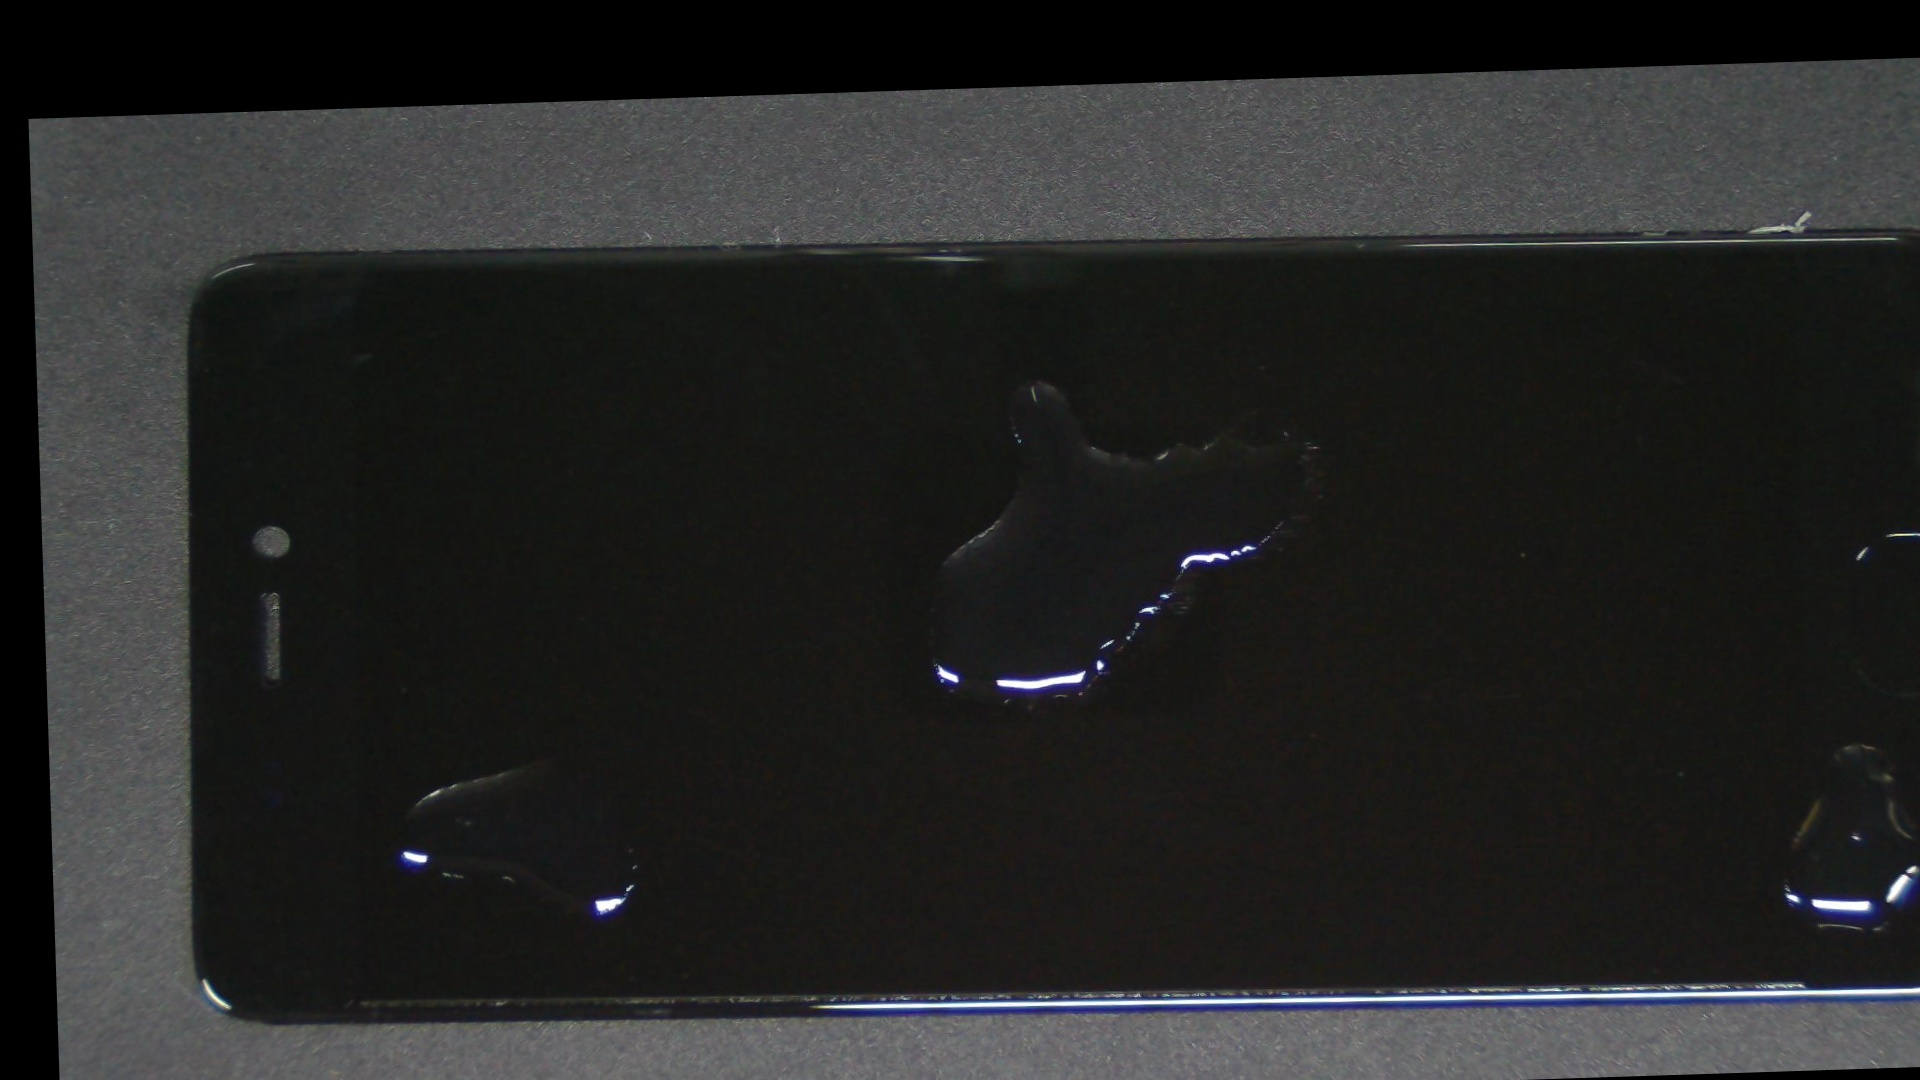oil: (942, 396, 1920, 1080), (287, 422, 804, 1080), (530, 216, 1532, 543)
